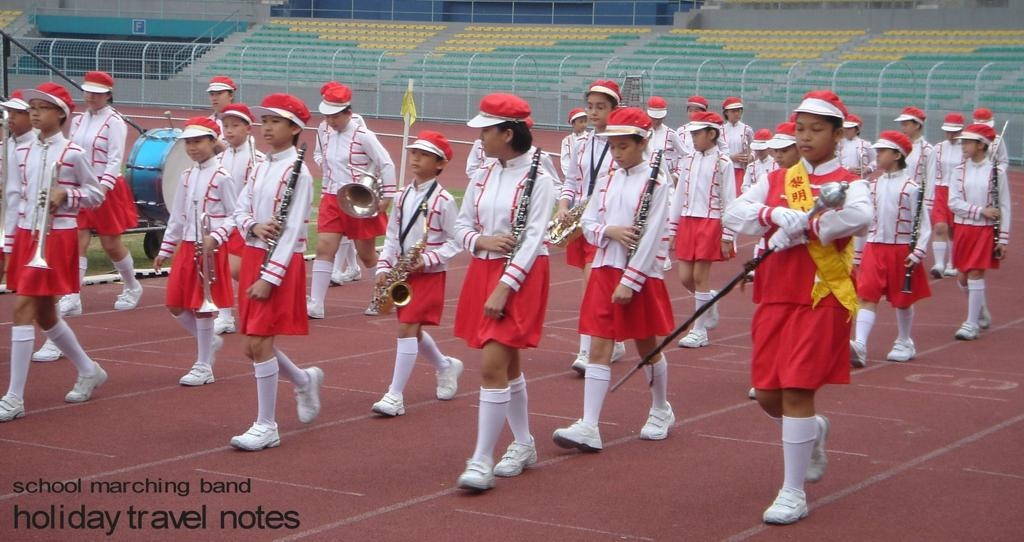human_face: (794, 112, 832, 159), (260, 109, 290, 142), (476, 122, 504, 157), (608, 136, 638, 166), (28, 98, 56, 126), (408, 144, 434, 174), (586, 93, 610, 125), (184, 134, 210, 160), (6, 104, 30, 132), (222, 116, 246, 142), (773, 141, 797, 167), (83, 88, 105, 108), (874, 146, 894, 168), (688, 130, 708, 150), (209, 89, 227, 111), (324, 111, 344, 130), (960, 139, 978, 158), (687, 106, 703, 122), (900, 120, 914, 136), (944, 126, 960, 140), (842, 124, 856, 138), (574, 116, 586, 132), (726, 108, 740, 121), (754, 145, 768, 158), (648, 113, 662, 125)
